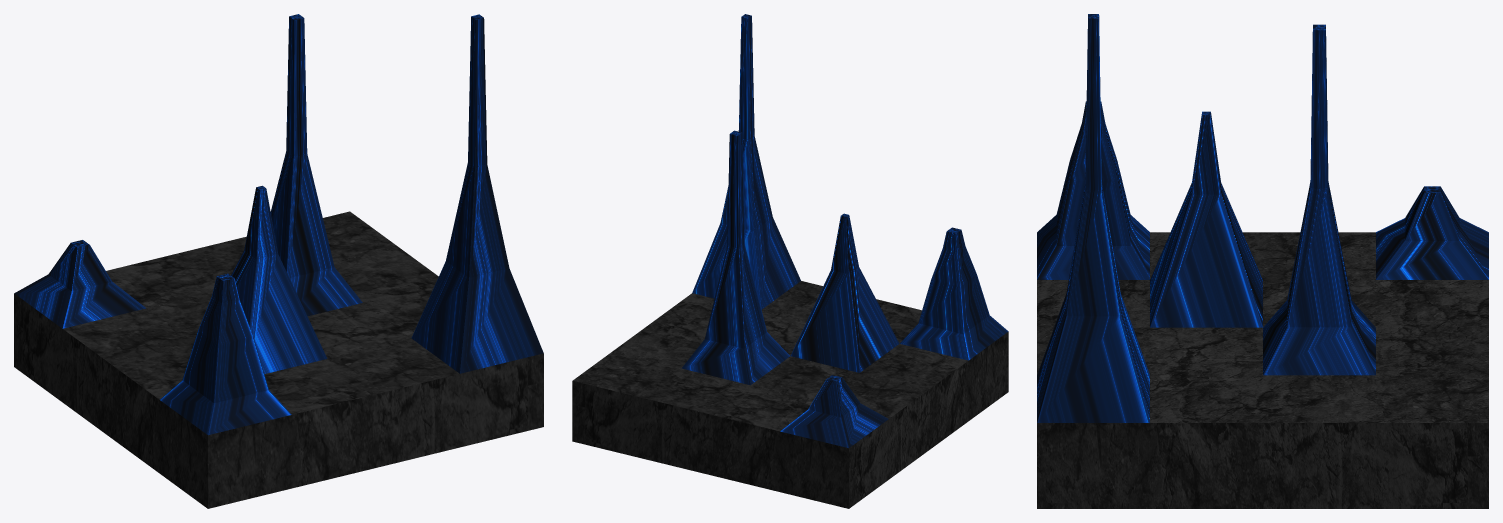
Rendered from EmptySpace8.fbx.
The picture shows the model from 3 angles, left to right: view 1: azimuth 30°, elevation 25°; view 2: azimuth 150°, elevation 25°; view 3: azimuth 270°, elevation 25°; orthographic projection. The views are drawn at different scales.
Parts seen in each view (by area): view 1: blankspace3; view 2: blankspace3; view 3: blankspace3.
Boxes of the visible parts, box(x1,y1,x2,y2) form: blankspace3: box(14, 14, 543, 508); blankspace3: box(572, 14, 1008, 508); blankspace3: box(1037, 14, 1488, 508).
Size of the model in its own units: 100 by 115 by 100.
2 materials, 2 textured.
